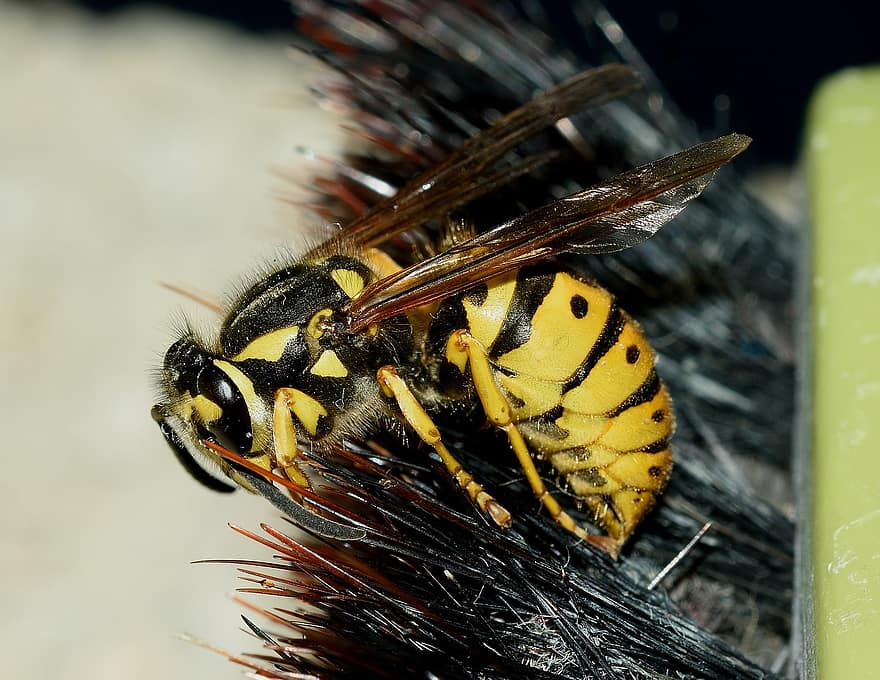chax: (128, 139, 788, 583)
